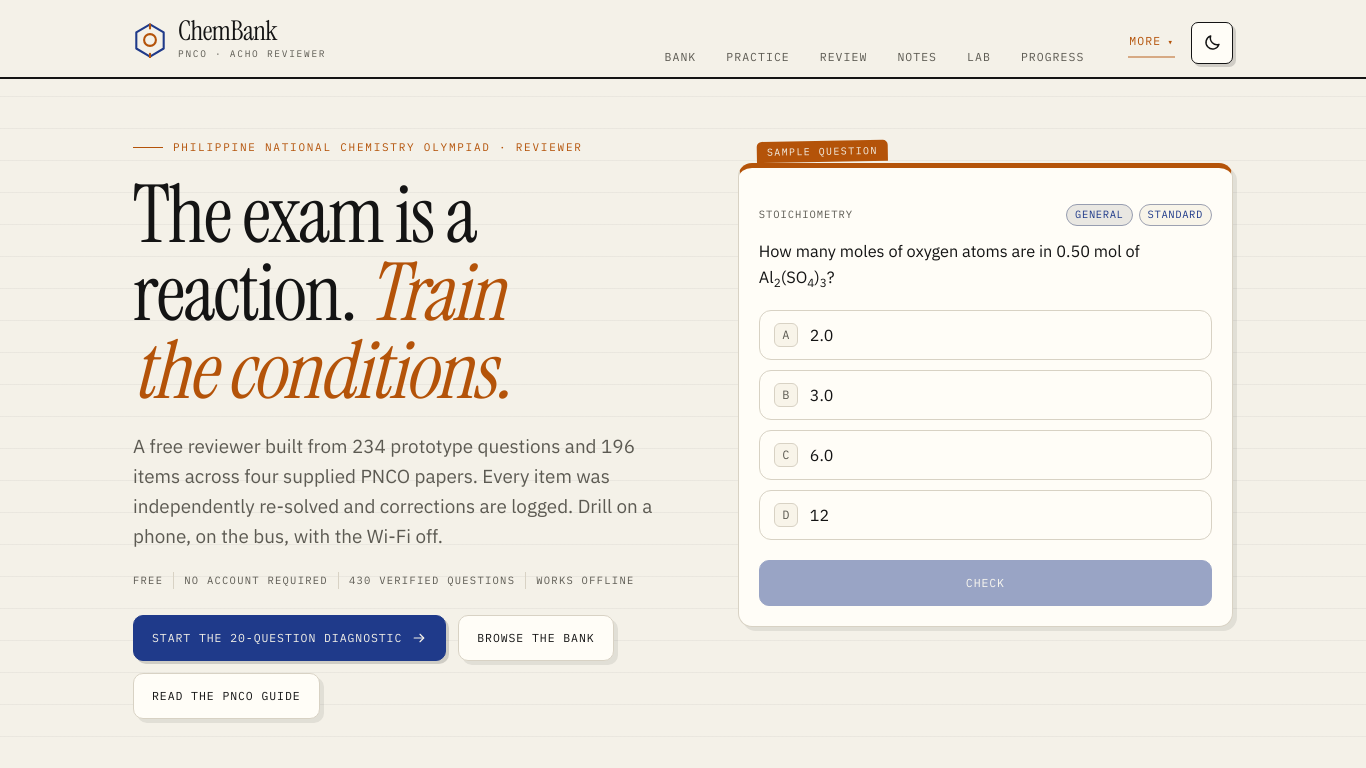
it: the sample result announces a correct pick and takes focus
Click the radio button labelled "C 6.0": coordinates (786, 455) [759,430,1212,480]
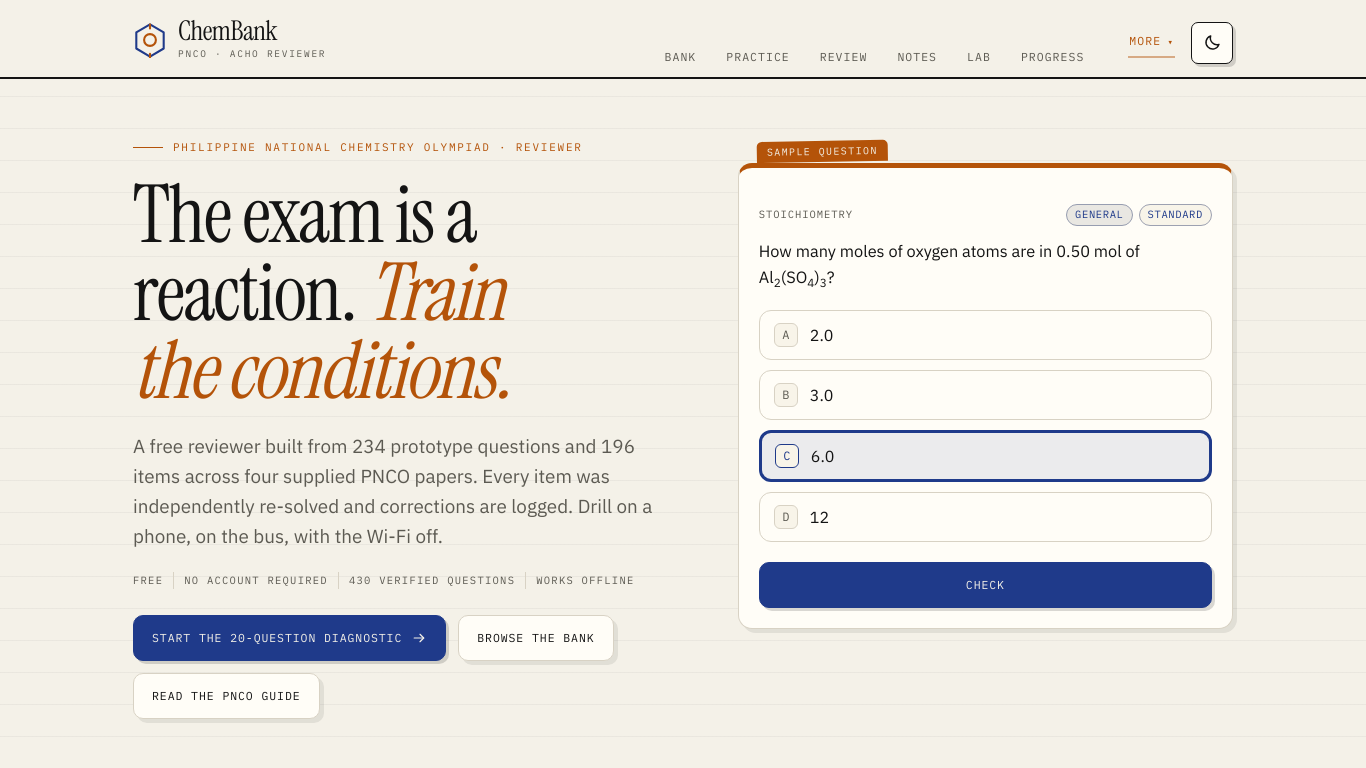
Click the button "Check": coordinates (985, 585) [759,562,1212,608]
(page scrolled)
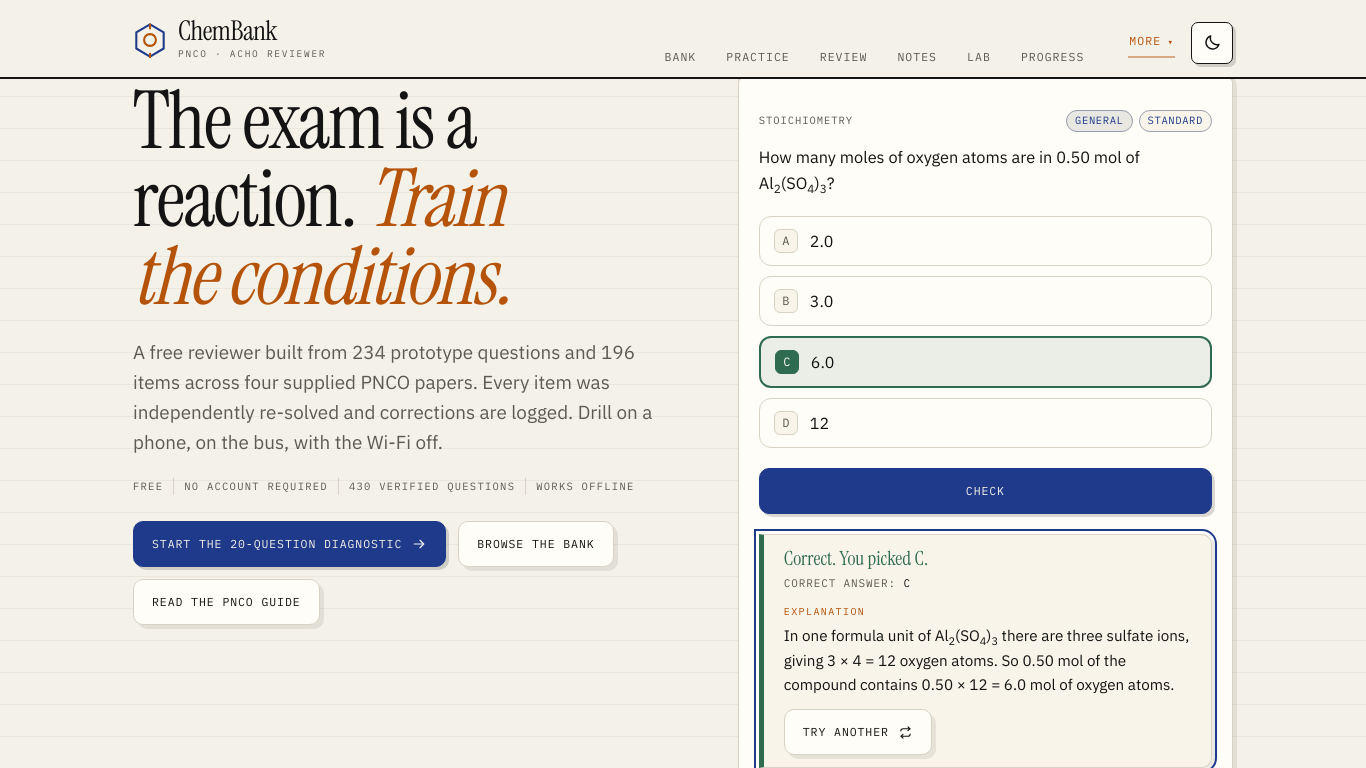
Now the text "Correct. You picked C." is shown, box [784,546,928,571]
